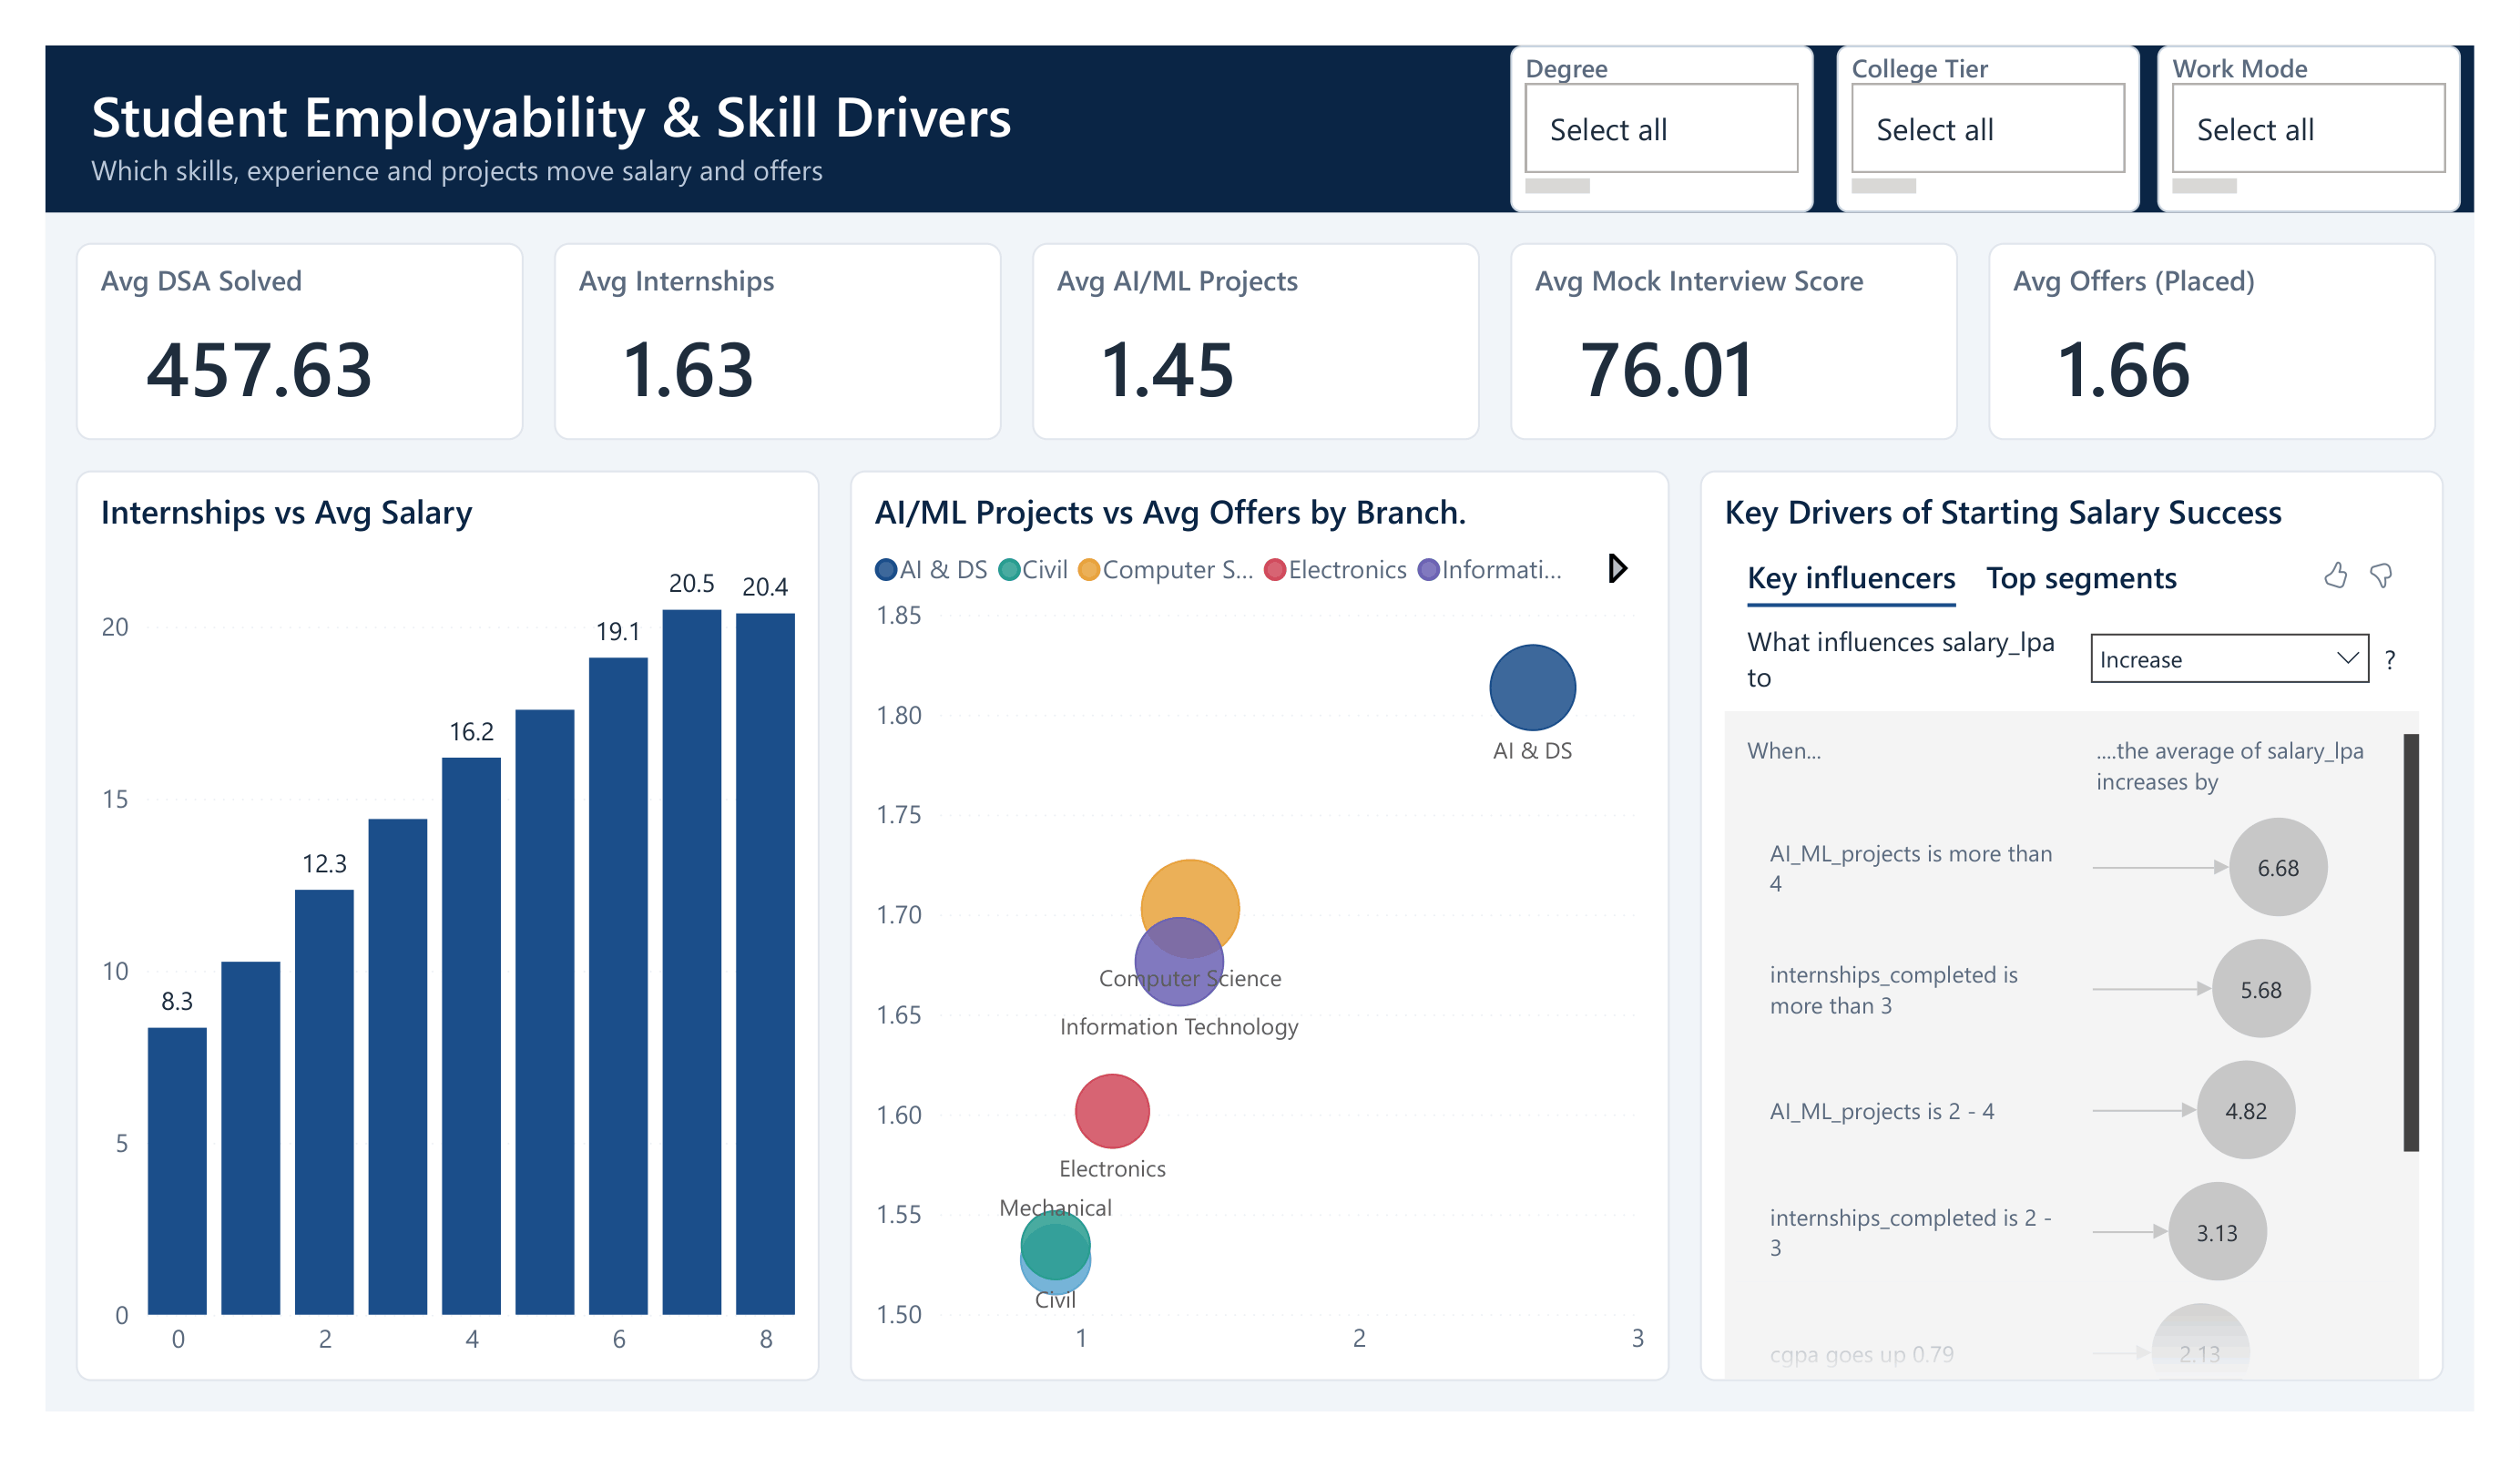

The dashboard page shown, as its layout file describes it:
{"tool":"powerbi","page":{"name":"Employability Drivers","canvas":[1280,720],"ordinal":1},"visuals":[{"type":"textbox","box":[0,0,1280,88],"z":0},{"type":"cardVisual","title":"Avg DSA Solved","fields":{"Data":["_Measures.Avg DSA Solved"]},"box":[16,104,236,104],"z":1000},{"type":"cardVisual","title":"Avg Internships","fields":{"Data":["_Measures.Avg Internships"]},"box":[268,104,236,104],"z":2000},{"type":"cardVisual","title":"Avg AI/ML Projects","fields":{"Data":["_Measures.Avg AI/ML Projects"]},"box":[520,104,236,104],"z":3000},{"type":"cardVisual","title":"Avg Mock Interview Score","fields":{"Data":["_Measures.Avg Mock Interview"]},"box":[772,104,236,104],"z":4000},{"type":"cardVisual","title":"Avg Offers (Placed)","fields":{"Data":["_Measures.Avg Offers (Placed)"]},"box":[1024,104,236,104],"z":5000},{"type":"clusteredColumnChart","title":"Internships vs Avg Salary","fields":{"Category":["fact_placement.internships_completed"],"Y":["_Measures.Avg Salary (Placed)"]},"box":[16,224,392,480],"z":6000},{"type":"scatterChart","title":"AI/ML Projects vs Avg Offers by Branch.","fields":{"Series":["dim_branch.branch"],"Size":["_Measures.Placed Count"],"X":["fact_placement.AI_ML_projects"],"Y":["_Measures.Avg Offers (Placed)"]},"box":[424,224,432,480],"z":7000},{"type":"keyDriversVisual","title":"Key Drivers of Starting Salary Success","fields":{"ExplainBy":["fact_placement.internships_completed","fact_placement.AI_ML_projects","fact_placement.cgpa","fact_placement.resume_score"],"Target":["fact_placement.salary_lpa"]},"box":[872,224,392,480],"z":8000},{"type":"advancedSlicerVisual","title":"Degree","fields":{"Values":["dim_degree.degree"]},"box":[772,0,160,88],"z":8001},{"type":"advancedSlicerVisual","title":"College Tier","fields":{"Values":["dim_college.college_tier_text"]},"box":[944,0,160,88],"z":8002},{"type":"advancedSlicerVisual","title":"Work Mode","fields":{"Values":["fact_placement.work_mode"]},"box":[1113,0,160,88],"z":8003}]}

Visuals, with their boxes on the page's 1280x720 design canvas (x1, y1, x2, y2). These are canvas units, not pixel positions in the 2520x1457 screenshot, which may show the page scaled, cropped or inside an application window:
textbox: (x1=0, y1=0, x2=1280, y2=88)
"Avg DSA Solved" cardVisual: (x1=16, y1=104, x2=252, y2=208)
"Avg Internships" cardVisual: (x1=268, y1=104, x2=504, y2=208)
"Avg AI/ML Projects" cardVisual: (x1=520, y1=104, x2=756, y2=208)
"Avg Mock Interview Score" cardVisual: (x1=772, y1=104, x2=1008, y2=208)
"Avg Offers (Placed)" cardVisual: (x1=1024, y1=104, x2=1260, y2=208)
"Internships vs Avg Salary" clusteredColumnChart: (x1=16, y1=224, x2=408, y2=704)
"AI/ML Projects vs Avg Offers by Branch." scatterChart: (x1=424, y1=224, x2=856, y2=704)
"Key Drivers of Starting Salary Success" keyDriversVisual: (x1=872, y1=224, x2=1264, y2=704)
"Degree" advancedSlicerVisual: (x1=772, y1=0, x2=932, y2=88)
"College Tier" advancedSlicerVisual: (x1=944, y1=0, x2=1104, y2=88)
"Work Mode" advancedSlicerVisual: (x1=1113, y1=0, x2=1273, y2=88)
